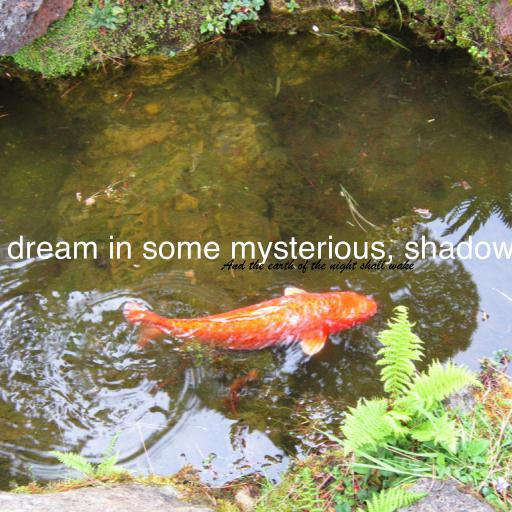Brush Script MT: (222, 259, 414, 274)
Helvetica: (0, 235, 512, 266)
